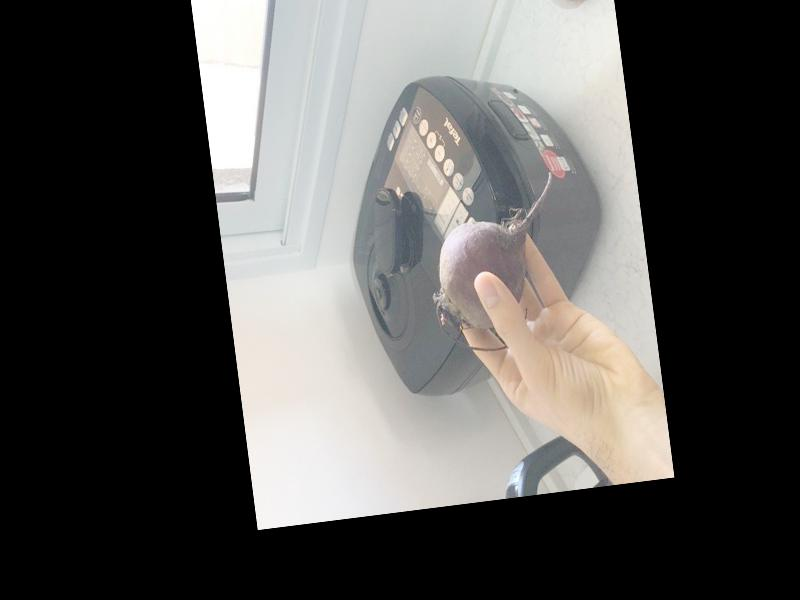Beet: (419, 172, 574, 355)
